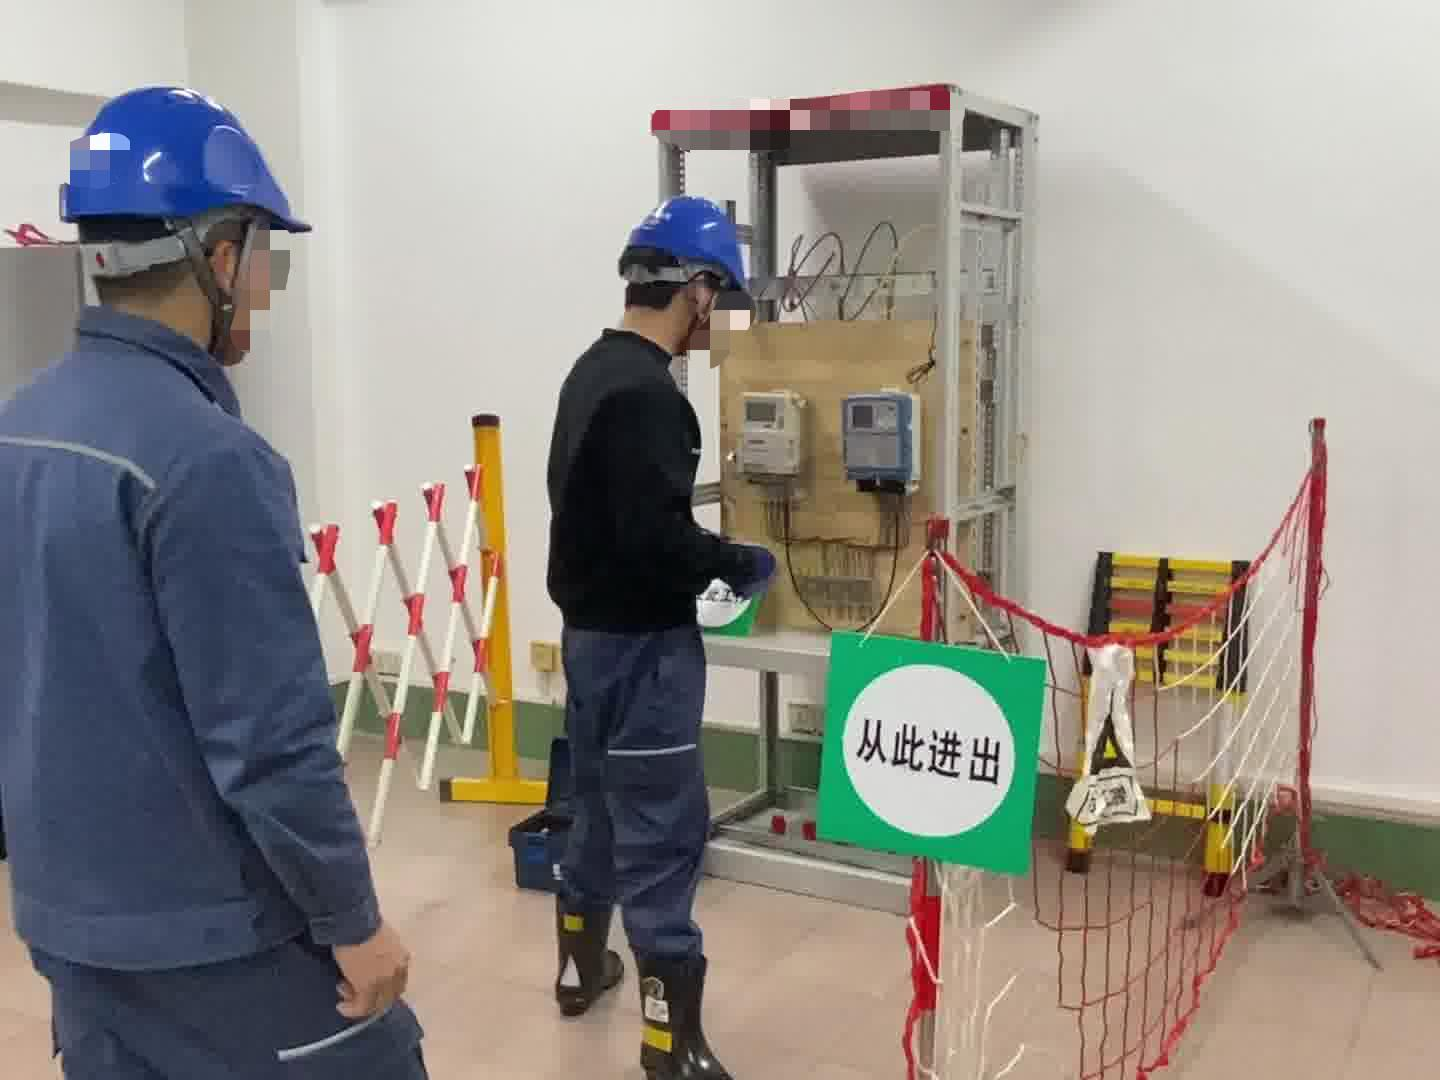halt: (53, 87, 317, 360), (616, 196, 754, 357)
inear: (183, 216, 262, 351), (675, 267, 725, 335)
